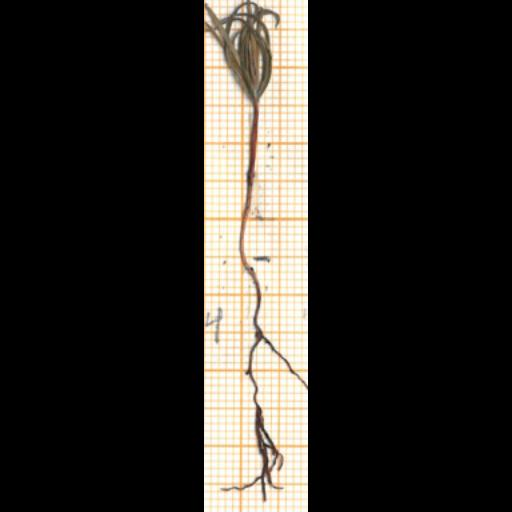flowerPinus: (205, 1, 279, 102)
rootPinus: (223, 263, 309, 502)
stemPinus: (239, 101, 261, 262)
